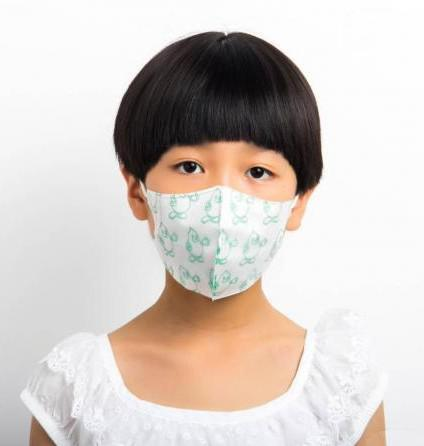OK: (143, 134, 302, 295)
